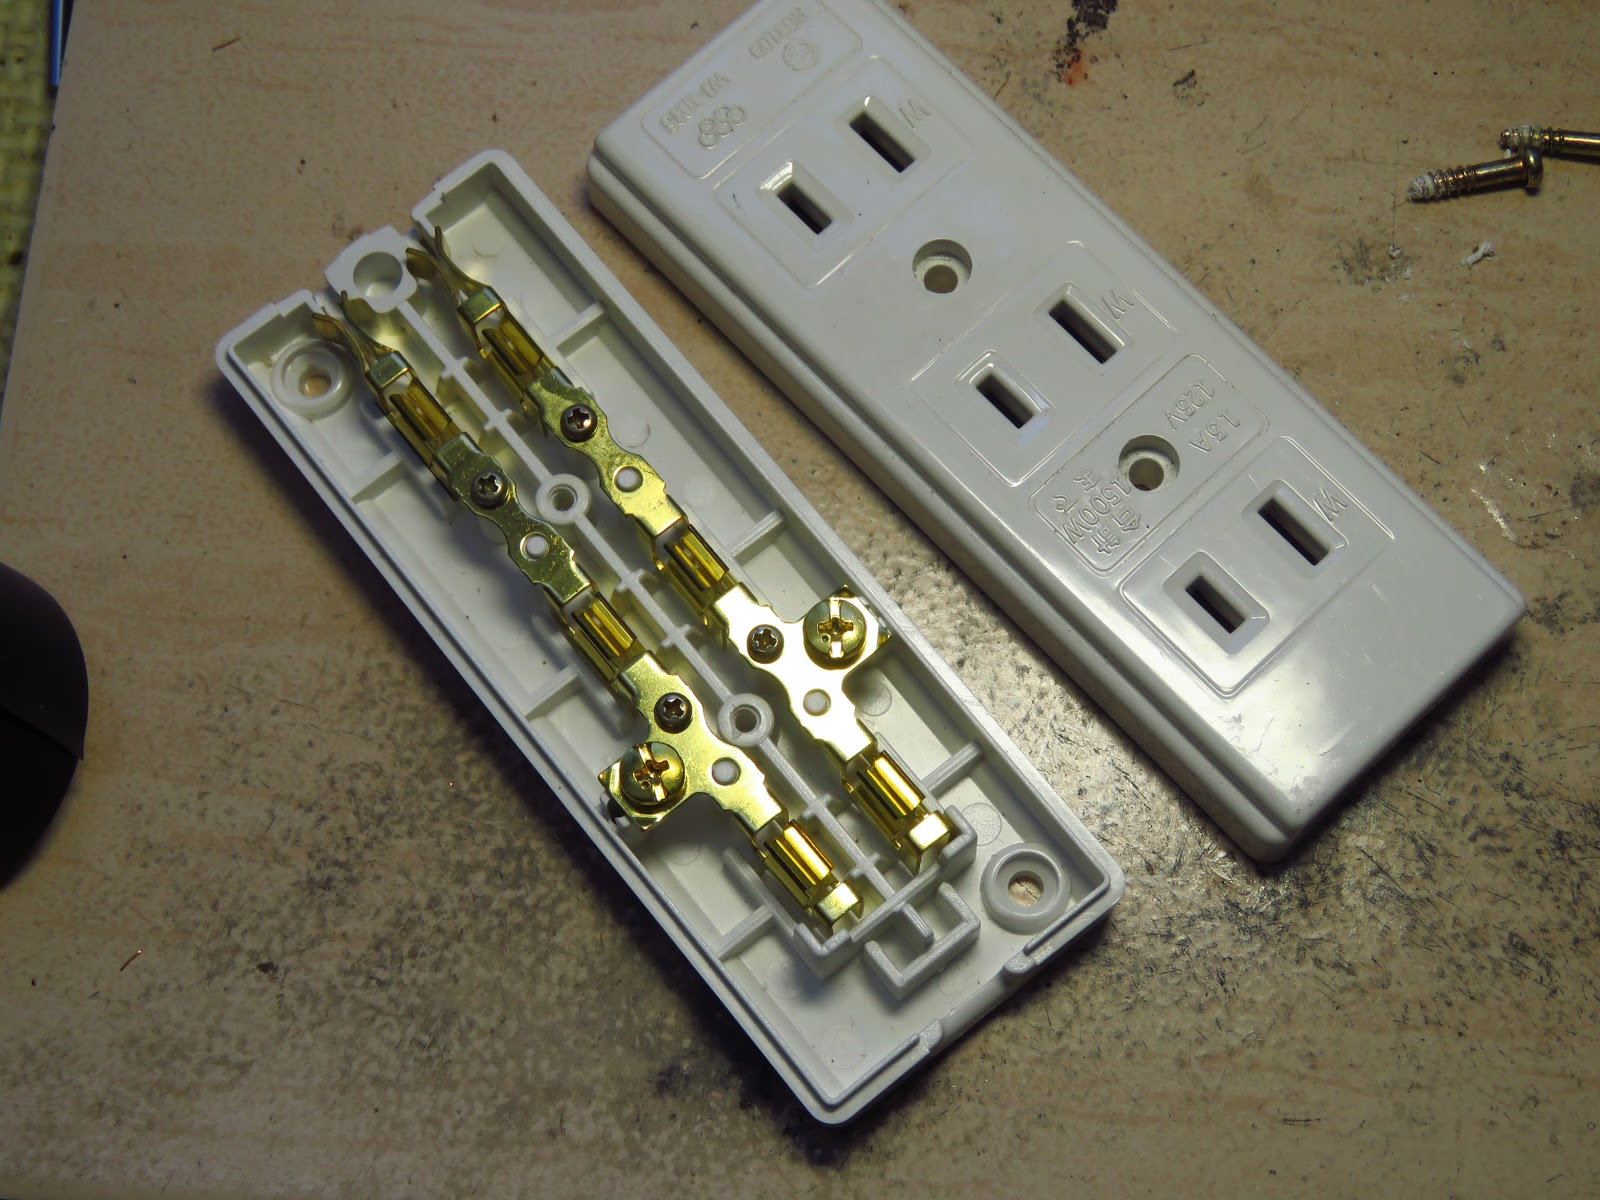socket: (588, 3, 1527, 863)
